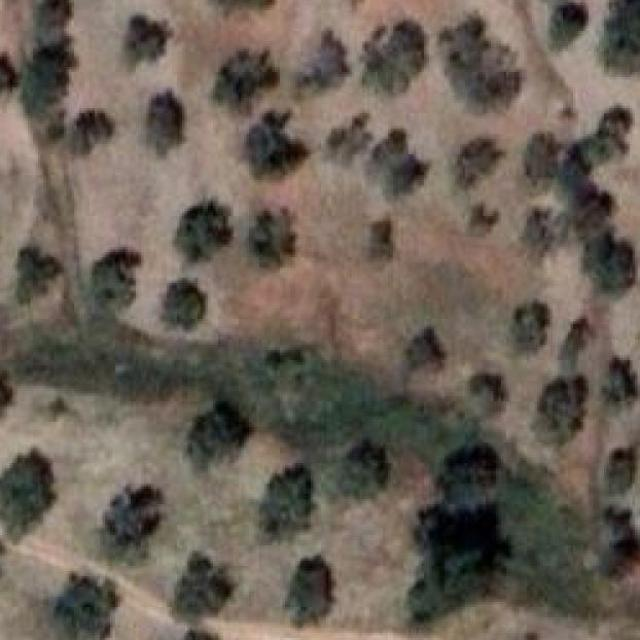Tree: (402, 504, 508, 629), (439, 16, 522, 110), (0, 448, 56, 540), (361, 20, 426, 96), (185, 401, 251, 469), (52, 574, 120, 640), (172, 550, 233, 620), (246, 111, 308, 178), (534, 370, 589, 442), (372, 128, 429, 196), (258, 463, 311, 536), (101, 486, 158, 552), (212, 51, 277, 106), (442, 445, 503, 503), (285, 556, 334, 628), (580, 230, 635, 294), (26, 41, 74, 114), (173, 201, 230, 262), (335, 440, 388, 499), (297, 31, 349, 90), (577, 108, 627, 167), (92, 247, 141, 307), (597, 507, 640, 575), (601, 0, 640, 74), (249, 209, 295, 267), (16, 247, 61, 305), (146, 90, 185, 156), (162, 278, 205, 330), (457, 139, 503, 187), (328, 113, 369, 165), (27, 0, 76, 43), (67, 111, 112, 155), (522, 134, 560, 185), (522, 211, 565, 256), (514, 300, 550, 352), (404, 328, 444, 369), (130, 18, 164, 66), (602, 360, 637, 404), (554, 3, 586, 47), (469, 374, 506, 412), (463, 200, 501, 237), (606, 448, 632, 496), (369, 220, 393, 262), (204, 0, 280, 11), (0, 54, 18, 92), (172, 627, 224, 640)
